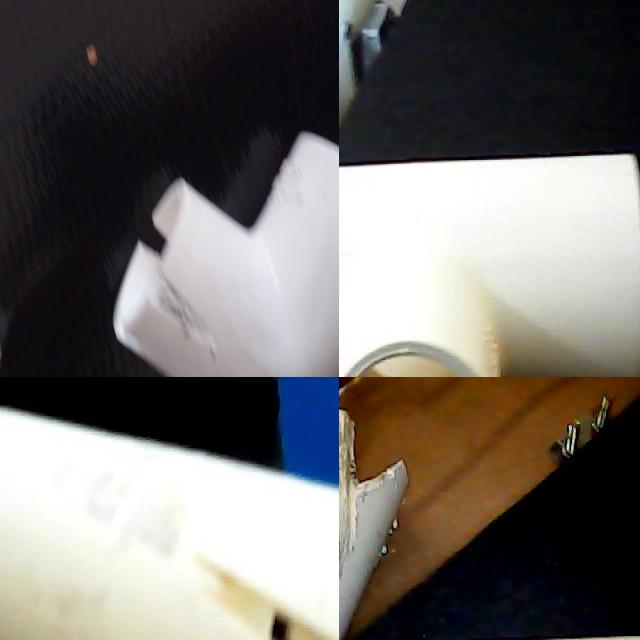Defective: (160, 497, 339, 640), (339, 406, 417, 532), (0, 72, 24, 103)
T Joint: (0, 408, 339, 640), (339, 153, 640, 377)
